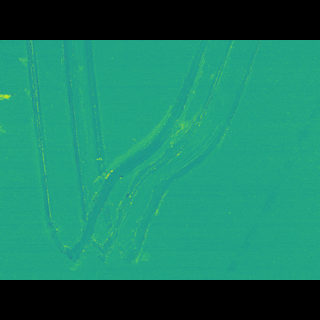Loch: (20, 68, 262, 242), (217, 107, 320, 250)
